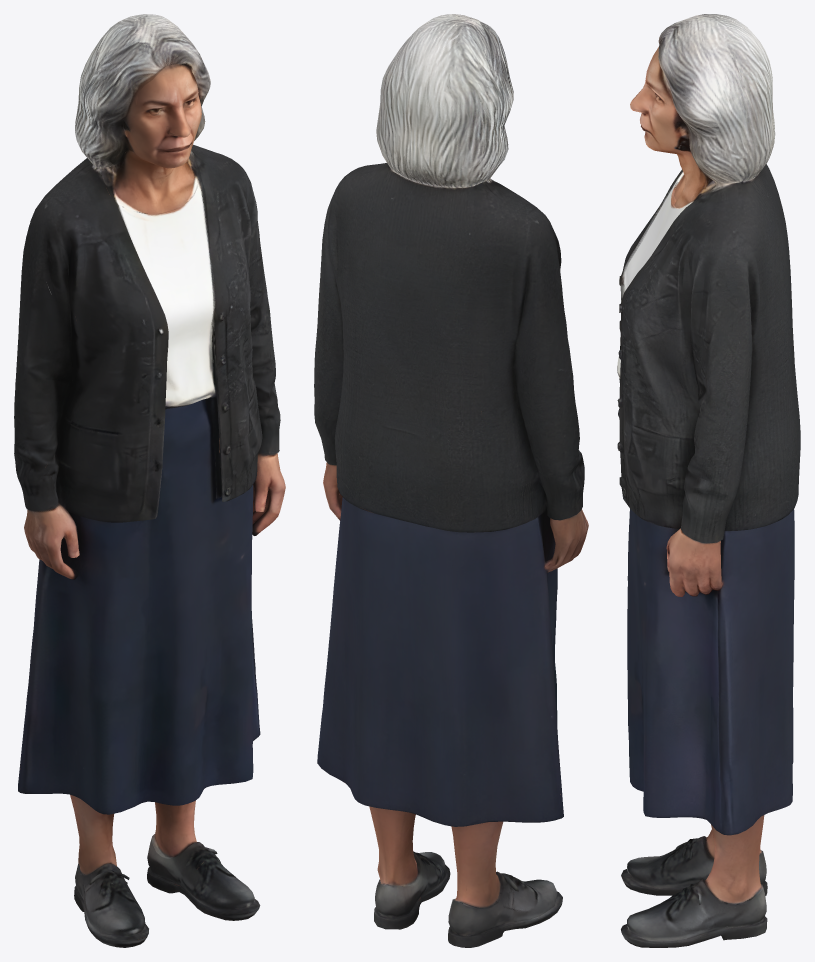
File: doña1.glb
3 renders of one model, left to right at view 1: azimuth 30°, elevation 25°; view 2: azimuth 150°, elevation 25°; view 3: azimuth 270°, elevation 25°, orthographic.
Parts seen in each view (by area): view 1: model; view 2: model; view 3: model.
Boxes of the visible parts, bbox=[...] form: model: bbox=[14, 14, 285, 947]; model: bbox=[314, 14, 588, 947]; model: bbox=[617, 14, 800, 947].
Bounding box in the file's own units: 0.3047 × 1 × 0.1859.
1 material, 1 textured.
